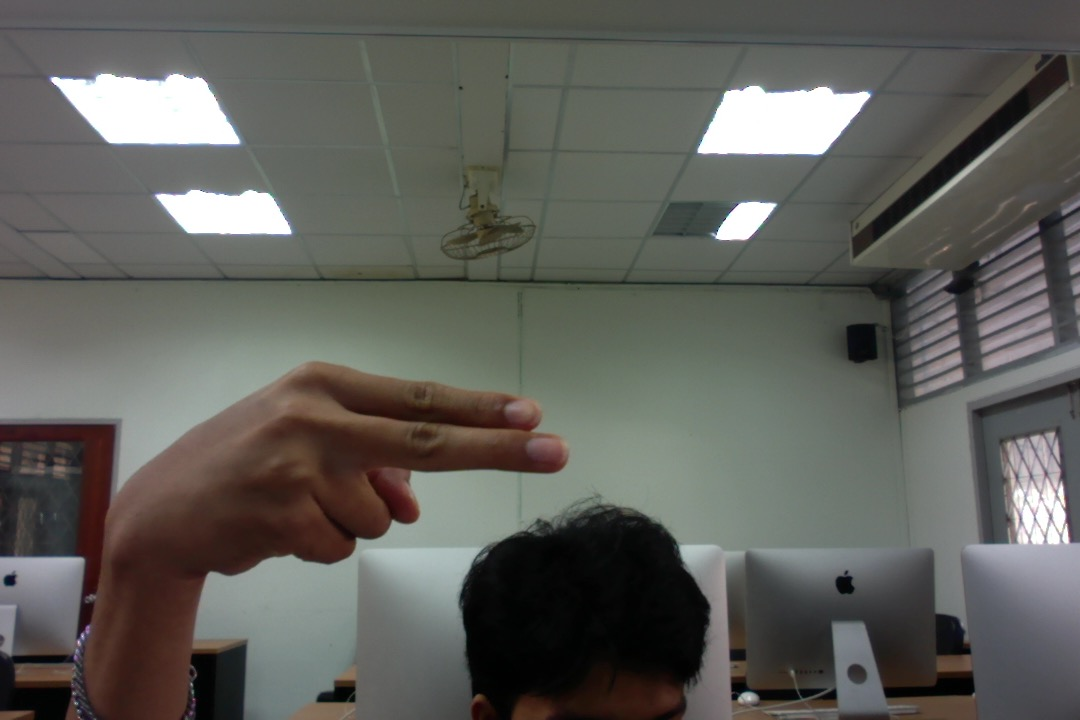hor: (95, 351, 578, 581)
